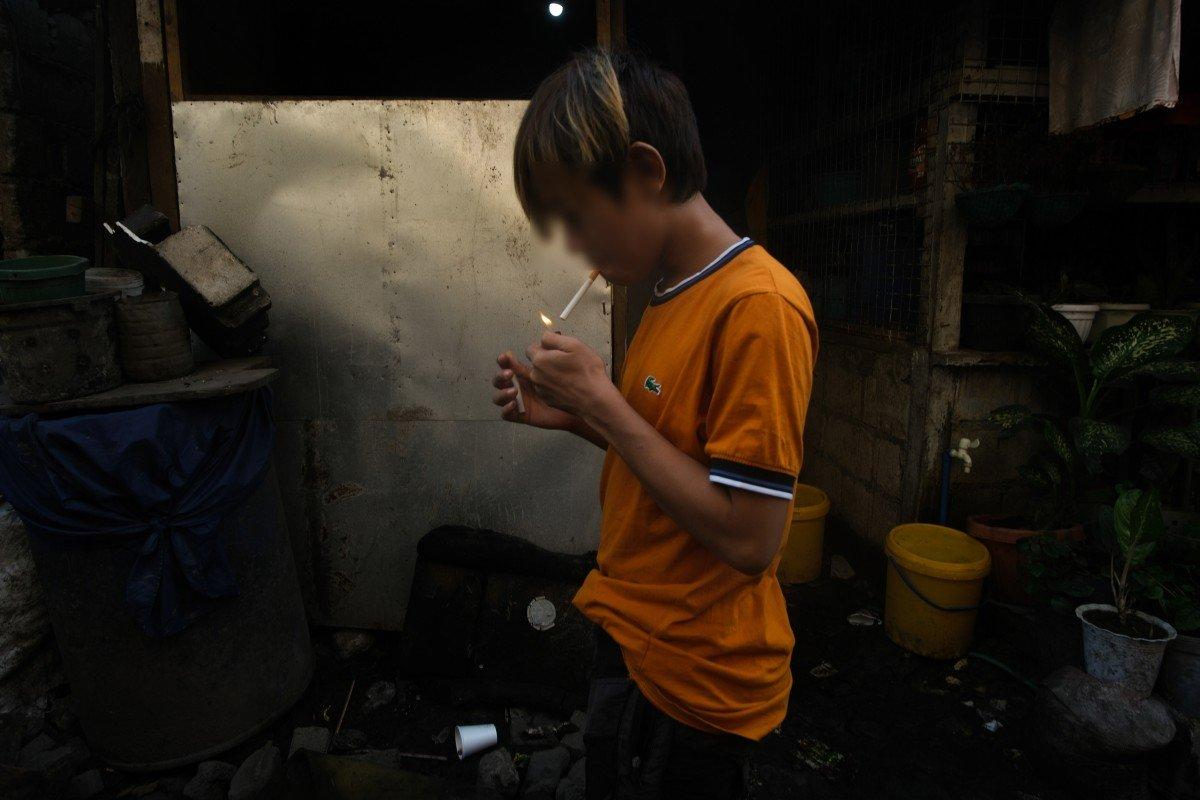smoke: (559, 270, 600, 321)
